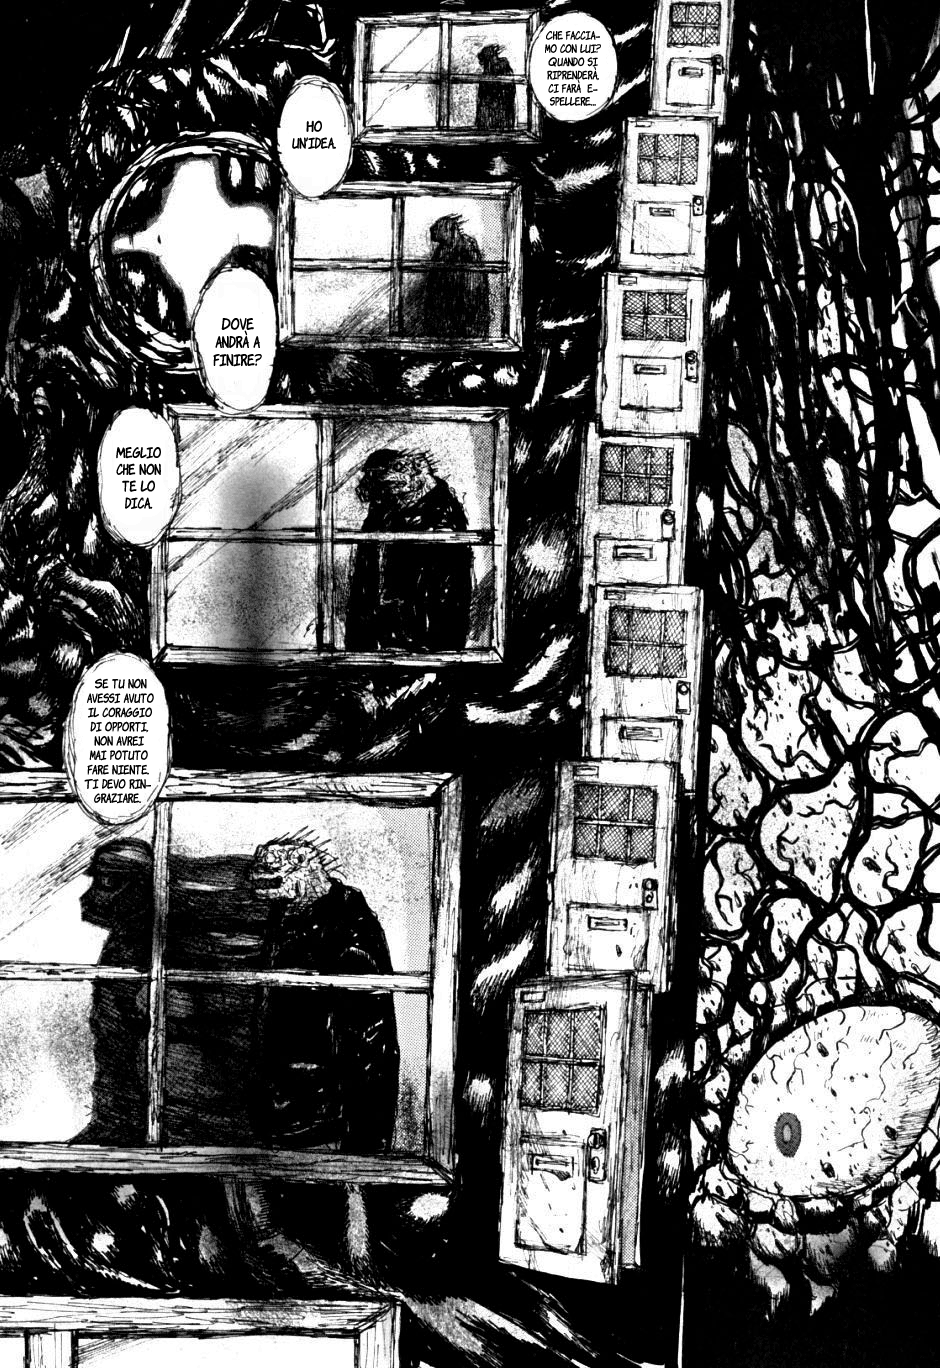Baloon: (61, 650, 169, 823), (86, 407, 184, 548), (195, 267, 284, 409), (271, 75, 352, 204), (527, 9, 617, 121)
Vignetta: (4, 1, 940, 1368)
